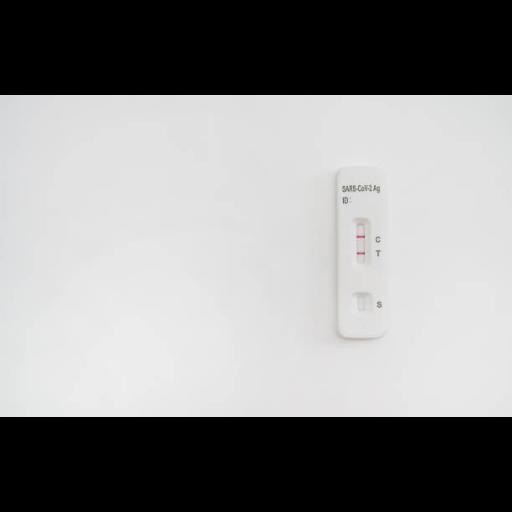Pos: (335, 166, 385, 336)
